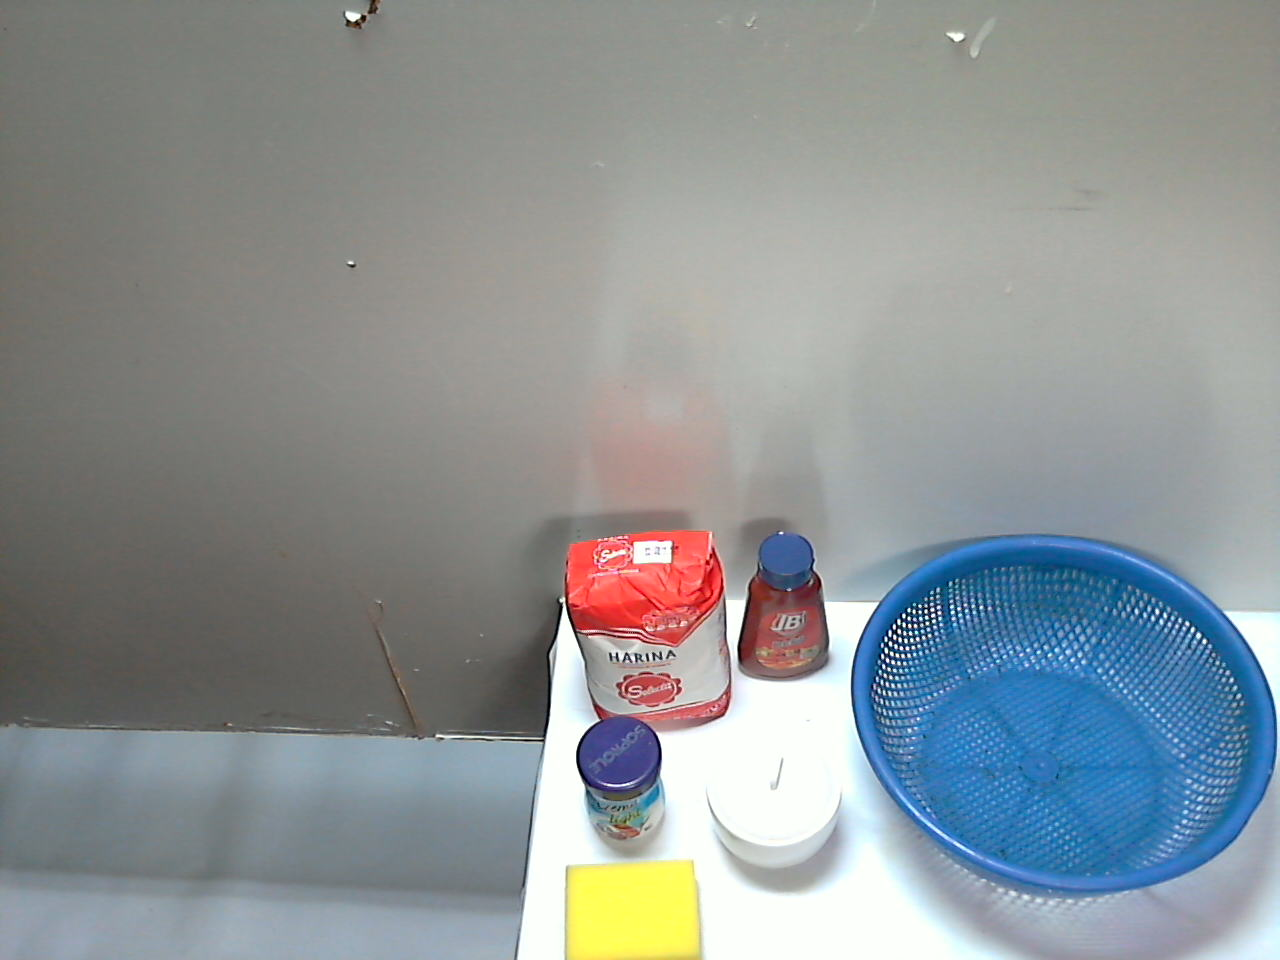aceite: (710, 492, 849, 776)
cafe: (830, 666, 986, 863)
guante: (467, 598, 710, 960)
jabon: (998, 834, 1124, 942)
leche: (961, 566, 1148, 785)
pescado: (683, 834, 931, 960)
